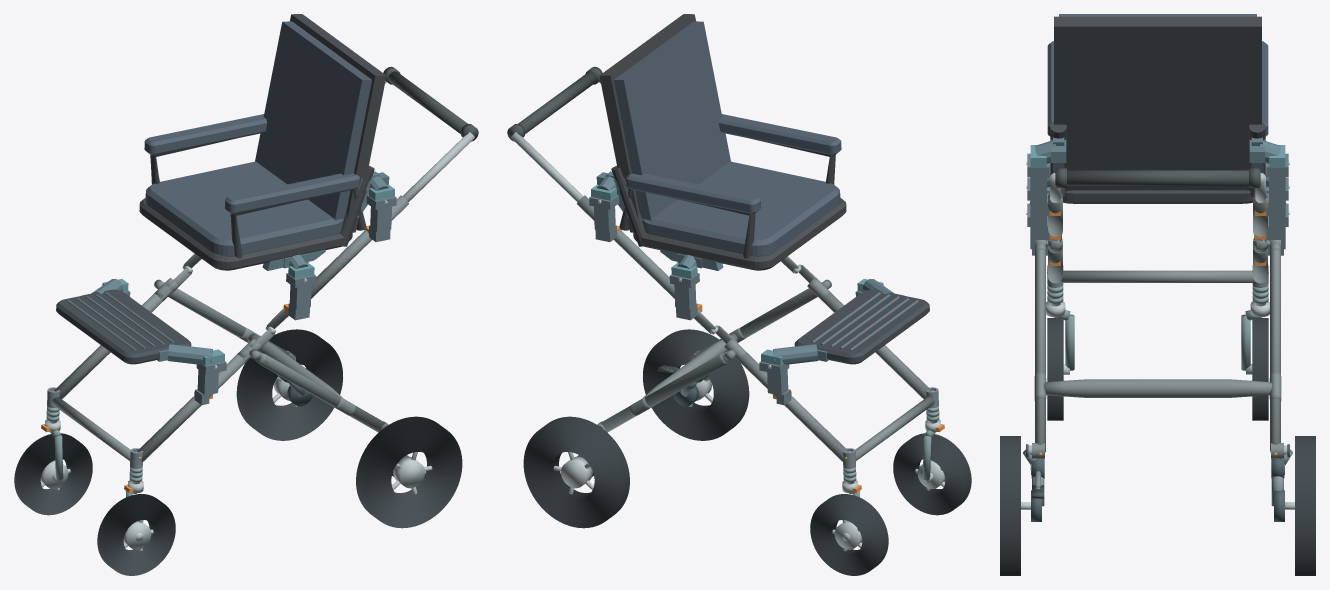
Rendered from S08_w550_state1_wheel_M.glb.
The picture shows the model from 3 angles, left to right: view 1: azimuth 30°, elevation 25°; view 2: azimuth 150°, elevation 25°; view 3: azimuth 270°, elevation 25°; orthographic projection. The views are drawn at different scales.
Parts seen in each view (by area): view 1: S08_Cabin, RL_tire.002, RR_tire.002, S08_Cabin_Footrest, FL_tire.002, FR_tire.002, V46_rear_leg_-1.003, main_lower_-1.003, S08_Cabin_Footrest_LowDocks, round_handle.002, main_upper_-1.003, V46_rear_leg_1.003 (+10 smaller); view 2: S08_Cabin, RR_tire.002, RL_tire.002, S08_Cabin_Footrest, FR_tire.002, FL_tire.002, V46_rear_leg_1.003, main_lower_1.003, S08_Cabin_Footrest_LowDocks, round_handle.002, main_upper_1.003, V46_rear_leg_-1.003 (+10 smaller); view 3: S08_Cabin, V46_rearbar.003, round_handle.002, RL_tire.002, RR_tire.002, front_fixed_round_tube.002, V46_rear_leg_1.003, V46_rear_leg_-1.003, S08_Cabin_HighDocks, FL_tire.002, FR_tire.002, Universal_Cabin_Receiver_H_1 (+9 smaller).
Part boxes in pixels (<box>): S08_Cabin: <box>139,14,386,270</box>; RL_tire.002: <box>356,416,462,528</box>; RR_tire.002: <box>236,329,342,440</box>; S08_Cabin_Footrest: <box>56,289,191,364</box>; FL_tire.002: <box>97,494,175,575</box>; FR_tire.002: <box>14,433,92,515</box>; V46_rear_leg_-1.003: <box>257,353,385,432</box>; main_lower_-1.003: <box>137,354,249,462</box>; S08_Cabin_Footrest_LowDocks: <box>82,279,224,368</box>; round_handle.002: <box>388,71,477,139</box>; main_upper_-1.003: <box>311,195,408,298</box>; V46_rear_leg_1.003: <box>168,288,292,357</box>; S08_Cabin: <box>599,14,846,270</box>; RR_tire.002: <box>523,416,629,528</box>; RL_tire.002: <box>643,329,749,440</box>; S08_Cabin_Footrest: <box>794,289,929,364</box>; FR_tire.002: <box>810,494,888,575</box>; FL_tire.002: <box>893,433,971,515</box>; V46_rear_leg_1.003: <box>600,353,728,432</box>; main_lower_1.003: <box>736,354,848,462</box>; S08_Cabin_Footrest_LowDocks: <box>761,279,903,368</box>; round_handle.002: <box>508,71,597,139</box>; main_upper_1.003: <box>577,195,674,298</box>; V46_rear_leg_-1.003: <box>693,288,817,357</box>; S08_Cabin: <box>1047,14,1268,203</box>; V46_rearbar.003: <box>1043,379,1272,397</box>; round_handle.002: <box>1055,170,1260,185</box>; RL_tire.002: <box>1000,436,1020,575</box>; RR_tire.002: <box>1295,436,1315,575</box>; front_fixed_round_tube.002: <box>1061,270,1254,282</box>; V46_rear_leg_1.003: <box>1270,248,1280,452</box>; V46_rear_leg_-1.003: <box>1035,248,1045,452</box>; S08_Cabin_HighDocks: <box>1026,139,1289,166</box>; FL_tire.002: <box>1047,318,1063,420</box>; FR_tire.002: <box>1252,318,1268,420</box>; Universal_Cabin_Receiver_H_1: <box>1266,153,1288,216</box>.
Size of the model in its own units: 1.16 by 1.28 by 0.6771.
